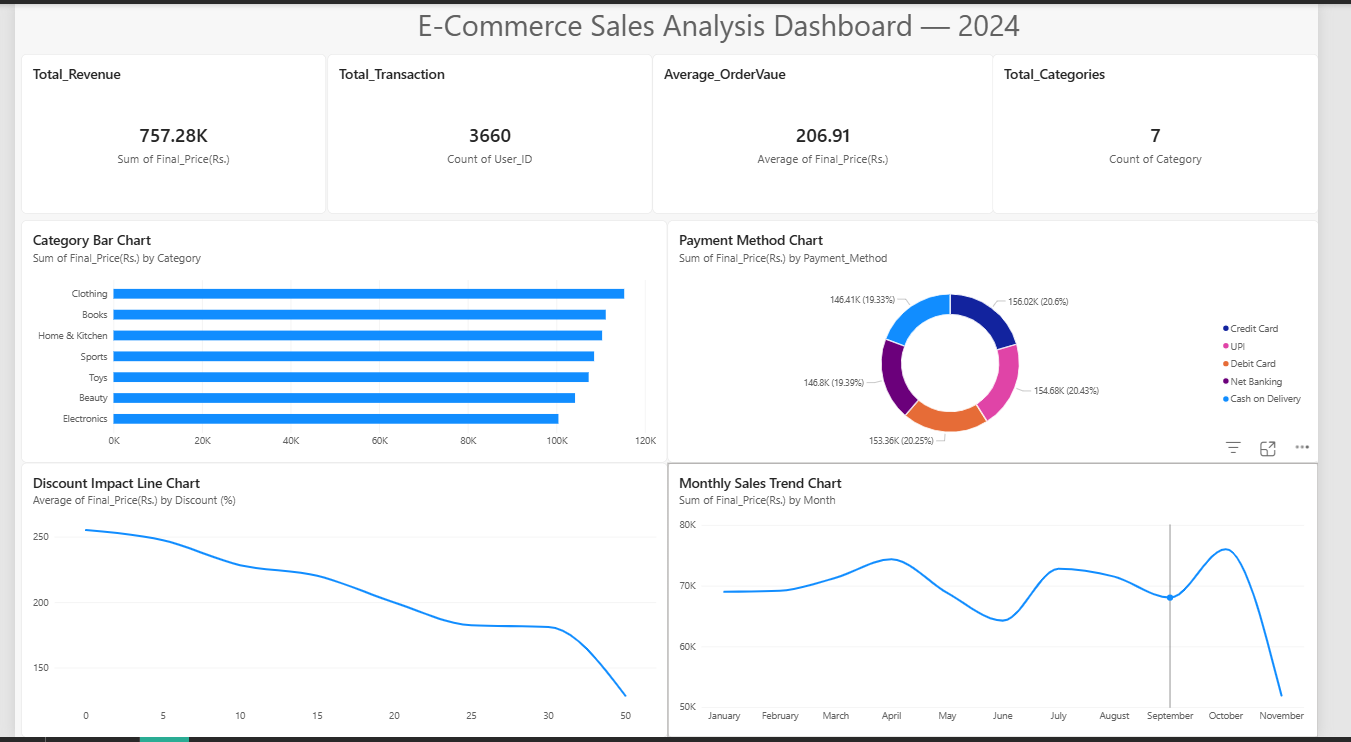

This screenshot's page, from the dashboard's own definition file:
{"tool":"powerbi","page":{"name":"Page 1","canvas":[1920,1080],"ordinal":0},"visuals":[{"type":"card","title":"Total_Revenue","fields":{"Values":["Sum(ecommerce_dataset_updated.Final_Price(Rs.))"]},"box":[9.2,73.6,449.1,235.6],"z":0},{"type":"card","title":"Average_OrderVaue","fields":{"Values":["Avg(ecommerce_dataset_updated.Final_Price(Rs.))"]},"box":[938.7,73.6,502.5,235.6],"z":1000},{"type":"card","title":"Total_Transaction","fields":{"Values":["CountNonNull(ecommerce_dataset_updated.User_ID)"]},"box":[460.1,73.6,478.5,235.6],"z":2000},{"type":"card","title":"Total_Categories","fields":{"Values":["Count(ecommerce_dataset_updated.Category)"]},"box":[1439.3,73.6,480.4,235.6],"z":3000},{"type":"clusteredBarChart","title":"Category Bar Chart","fields":{"Category":["ecommerce_dataset_updated.Category"],"Y":["Sum(ecommerce_dataset_updated.Final_Price(Rs.))"]},"box":[9.2,318.4,951.5,357.1],"z":4000},{"type":"donutChart","title":"Payment Method Chart","fields":{"Category":["ecommerce_dataset_updated.Payment_Method"],"Y":["Sum(ecommerce_dataset_updated.Final_Price(Rs.))"]},"box":[960.7,318.4,958.9,357.1],"z":5000},{"type":"lineChart","title":"Discount Impact Line Chart","fields":{"Category":["ecommerce_dataset_updated.Discount (%)"],"Y":["Avg(ecommerce_dataset_updated.Final_Price(Rs.))"]},"box":[8.7,675.2,952.2,404.7],"z":6000},{"type":"lineChart","title":"Monthly Sales Trend Chart","fields":{"Category":["ecommerce_dataset_updated.Date_Proper.Variation.Date Hierarchy.Month"],"Y":["Sum(ecommerce_dataset_updated.Final_Price(Rs.))"]},"box":[961,675,959,405],"z":7000},{"type":"textbox","box":[592.6,0,905.5,93.9],"z":8000}]}

Visuals, with their boxes in screenshot pixels (x1, y1, x2, y2), scaled from the page's 1920x1080 canvas onto the 1351x742 screenshot:
"Total_Revenue" card: x1=6, y1=51, x2=322, y2=212
"Average_OrderVaue" card: x1=661, y1=51, x2=1014, y2=212
"Total_Transaction" card: x1=324, y1=51, x2=660, y2=212
"Total_Categories" card: x1=1013, y1=51, x2=1350, y2=212
"Category Bar Chart" clusteredBarChart: x1=6, y1=219, x2=676, y2=464
"Payment Method Chart" donutChart: x1=676, y1=219, x2=1350, y2=464
"Discount Impact Line Chart" lineChart: x1=6, y1=464, x2=676, y2=741
"Monthly Sales Trend Chart" lineChart: x1=676, y1=464, x2=1350, y2=741
textbox: x1=417, y1=0, x2=1054, y2=65
